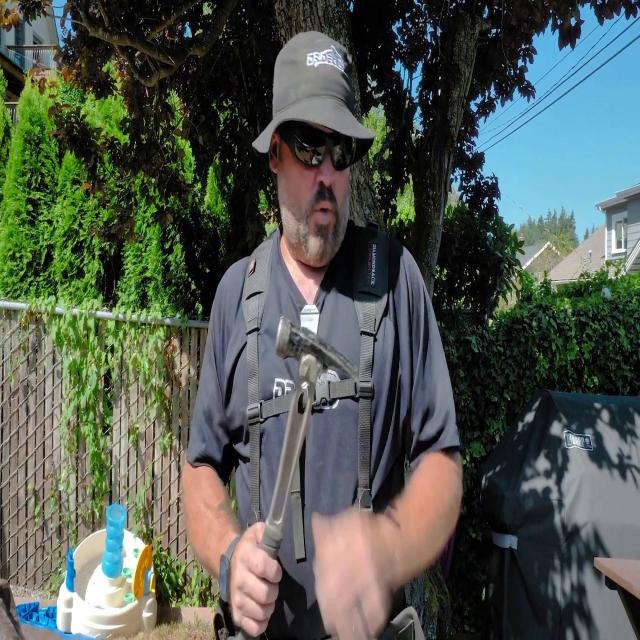hammer: (260, 315, 357, 557)
